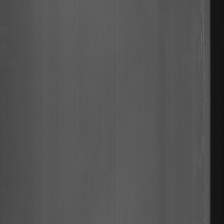silk_spot: (188, 19, 207, 81)
